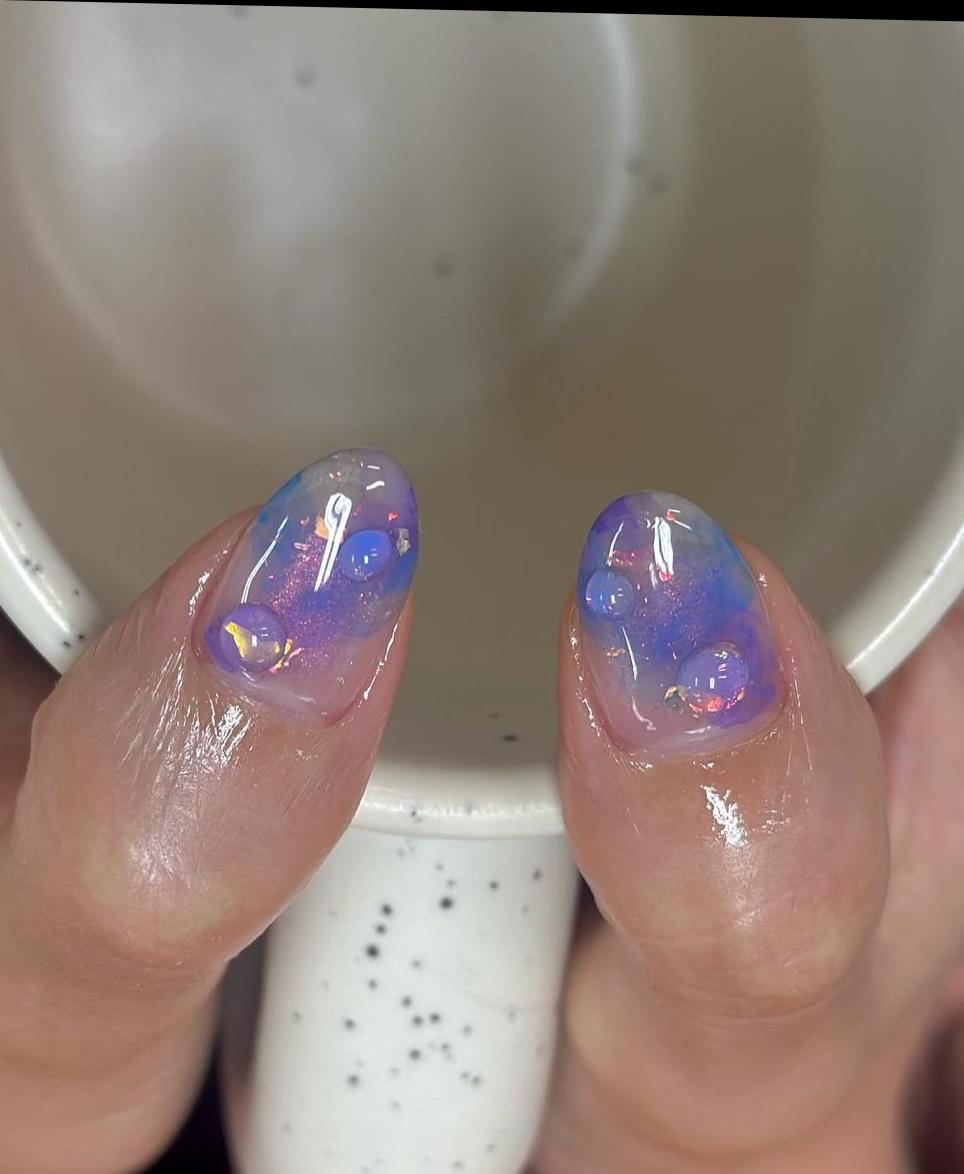nail: (199, 444, 422, 729), (574, 489, 786, 767)
